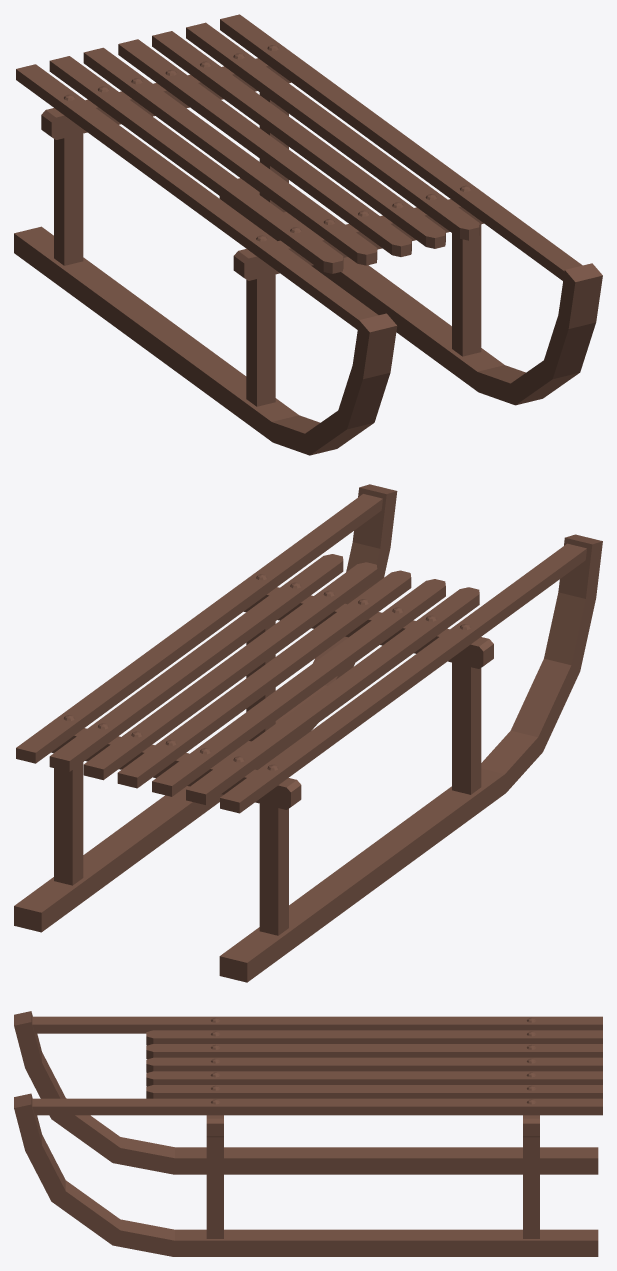
The model's file is christmasSled.dae.
3 renders of one model, top to bottom at view 1: azimuth 30°, elevation 25°; view 2: azimuth 150°, elevation 25°; view 3: azimuth 270°, elevation 25°, orthographic. The views are drawn at different scales.
Visible parts, largest first — view 1: sled; view 2: sled; view 3: sled.
Part boxes in pixels (bbox=[...]): sled: bbox=[14, 14, 602, 455]; sled: bbox=[14, 484, 602, 982]; sled: bbox=[14, 1011, 602, 1256].
Size of the model in its own units: 39.31 by 97.81 by 27.94.
